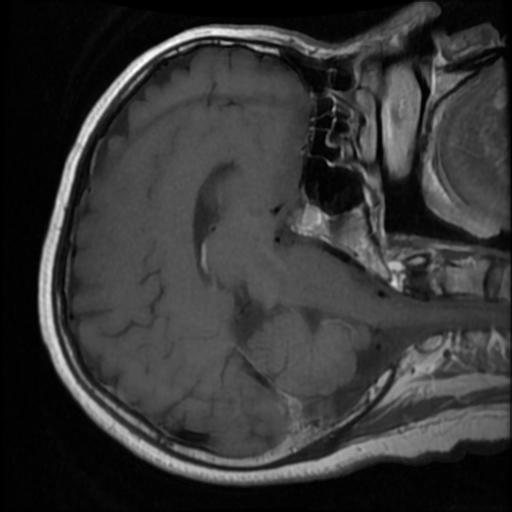pituitary tumour: (297, 204, 321, 235)
